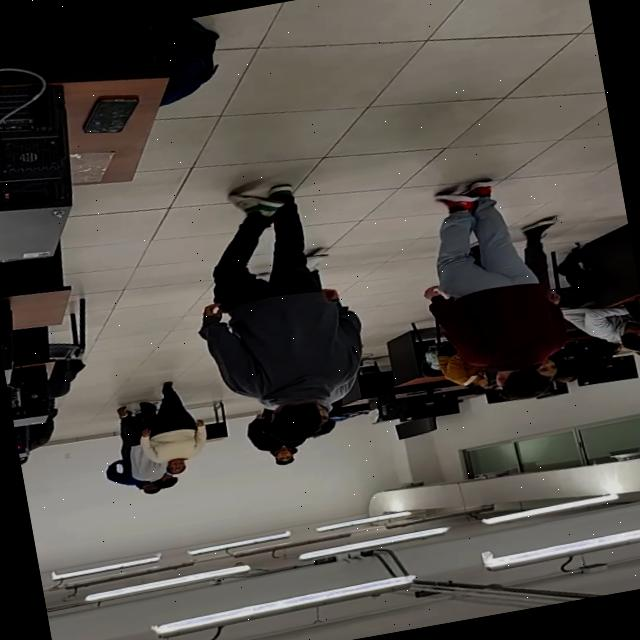Persona: (180, 170, 371, 453), (406, 164, 577, 413), (134, 382, 212, 478), (106, 403, 165, 500), (250, 422, 305, 476)
